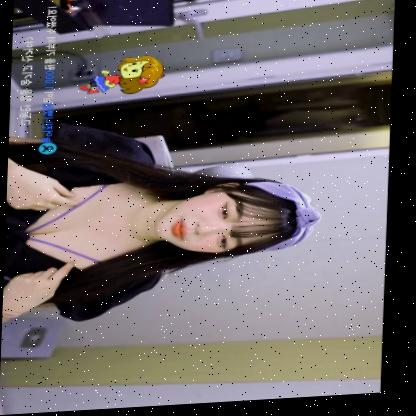donation: (16, 0, 169, 157)
streamer: (3, 113, 331, 328)
